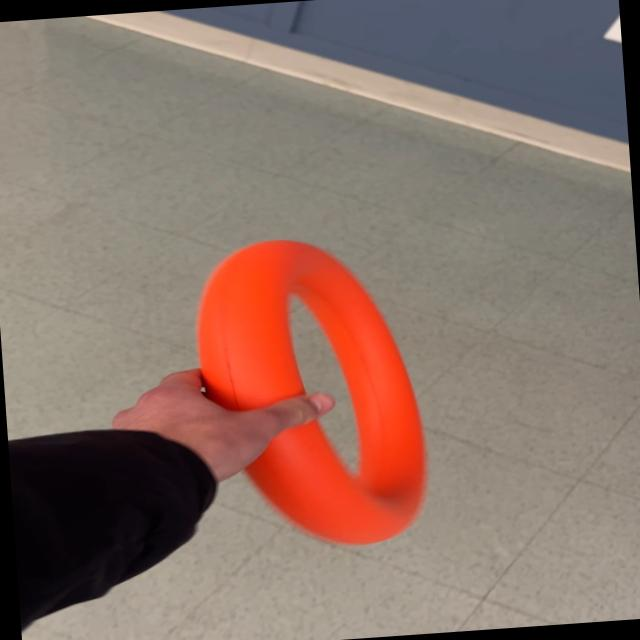note: (187, 228, 436, 556)
